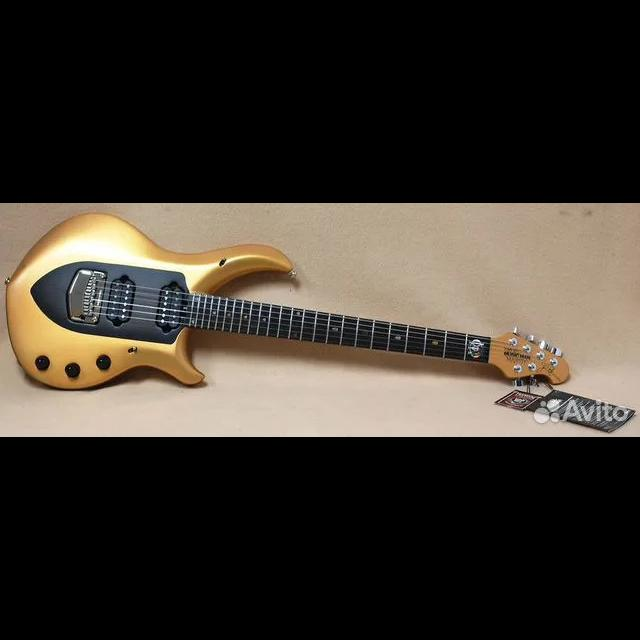Electric-Guitar: (7, 213, 569, 389)
